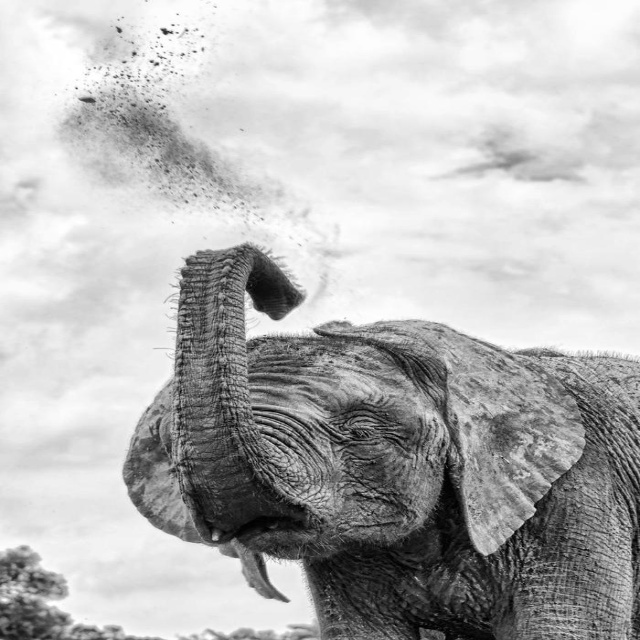Elephant: (129, 240, 639, 640)
